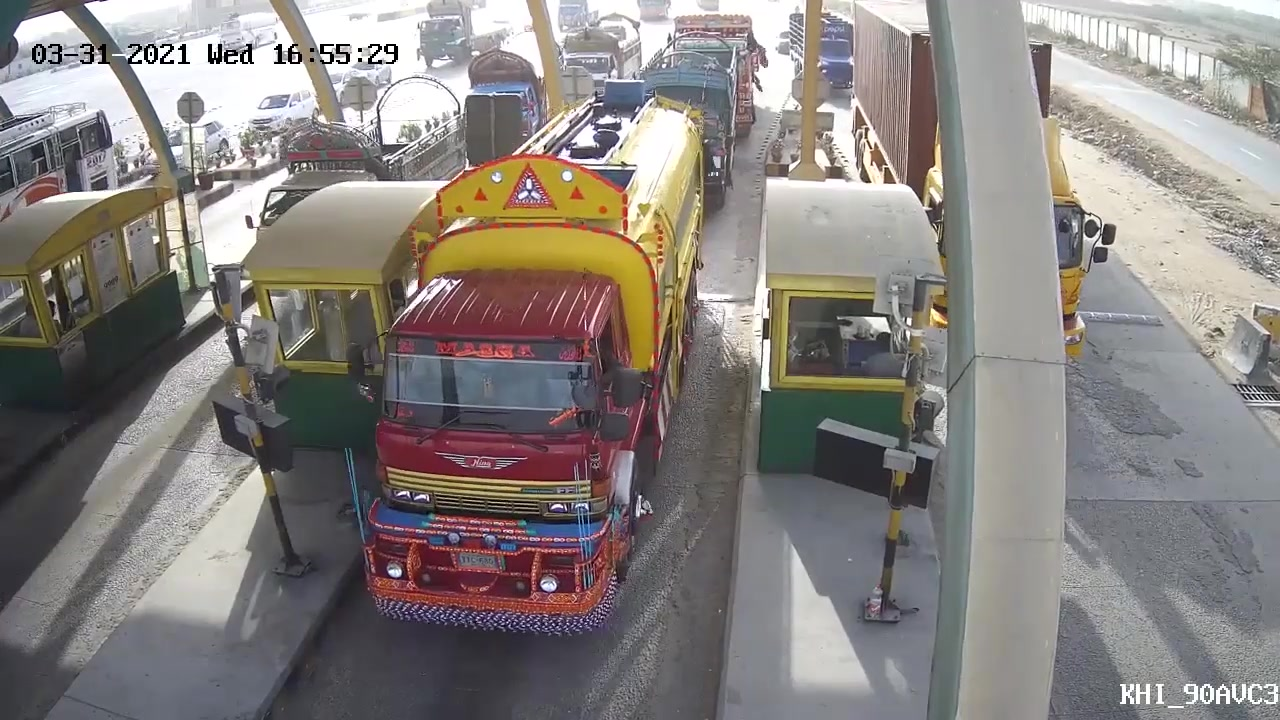F6: (340, 97, 710, 634)
